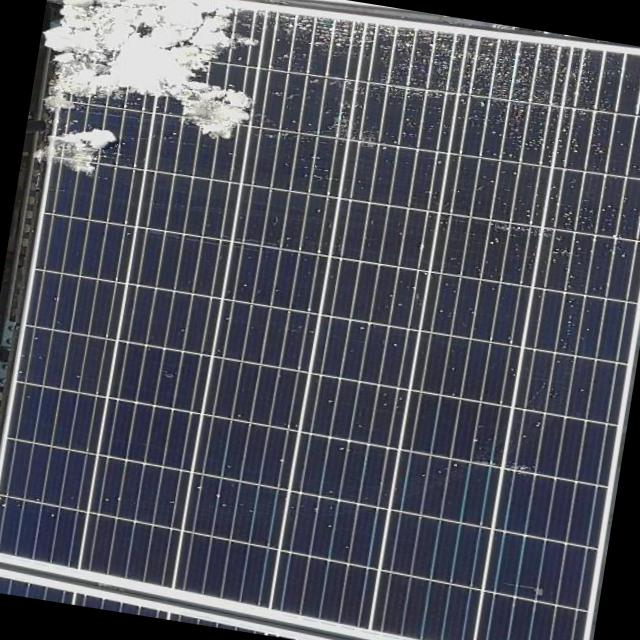faulty: (5, 0, 640, 363)
